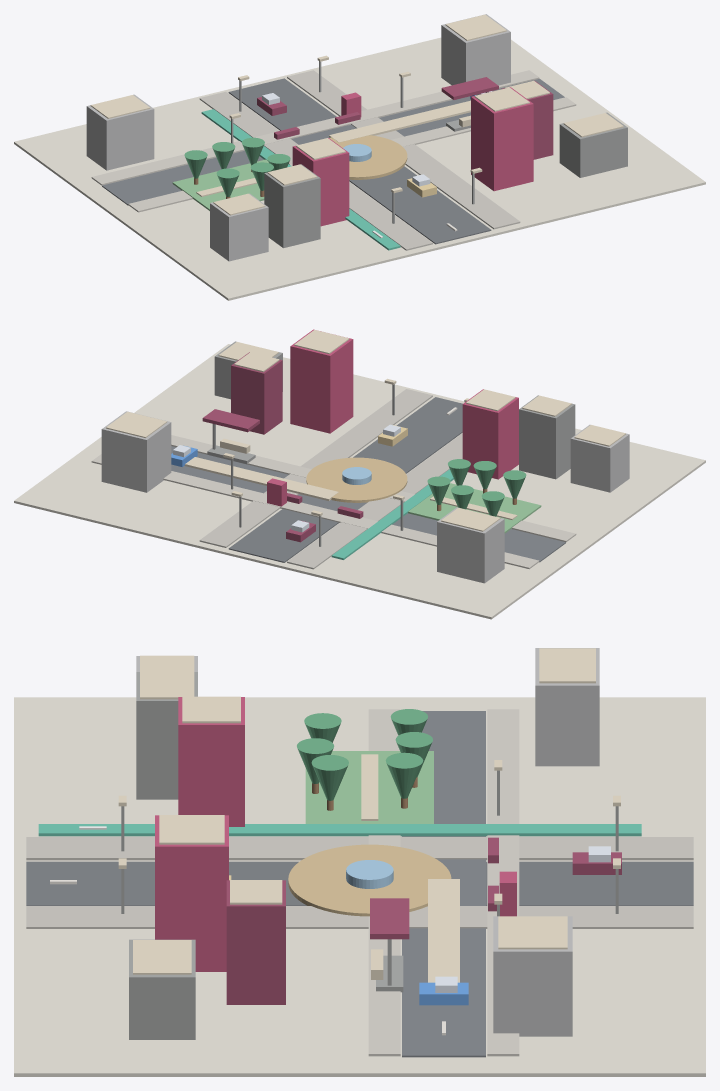
The model's file is maqueta-urbana.glb.
3 views of the same model, one above another, from view 1: azimuth 30°, elevation 25°; view 2: azimuth 150°, elevation 25°; view 3: azimuth 270°, elevation 25° (orthographic). The views are drawn at different scales.
Visible parts, largest first — view 1: Base_Terreno, Avenida_Principal, Edificio_Propuesto_01, Banqueta_Derecha, Calle_Transversal, Banqueta_Izquierda, Edificio_Existente_03, Edificio_Existente_02, Edificio_Existente_05, Banqueta_Transversal_Norte, Edificio_Existente_04, Edificio_Existente_01 (+15 smaller); view 2: Base_Terreno, Avenida_Principal, Edificio_Propuesto_01, Banqueta_Derecha, Edificio_Existente_05, Calle_Transversal, Edificio_Existente_03, Edificio_Propuesto_03, Banqueta_Izquierda, Edificio_Existente_02, Plaza_Central, Banqueta_Transversal_Norte (+18 smaller); view 3: Base_Terreno, Calle_Transversal, Avenida_Principal, Banqueta_Izquierda, Banqueta_Derecha, Edificio_Propuesto_01, Edificio_Existente_05, Plaza_Central, Ciclovia, Edificio_Propuesto_03, Banqueta_Transversal_Norte, Edificio_Propuesto_02 (+27 smaller).
Boxes of the visible parts, <box> form: Base_Terreno: <box>14,37,705,300</box>; Avenida_Principal: <box>228,78,491,244</box>; Edificio_Propuesto_01: <box>471,87,533,191</box>; Banqueta_Derecha: <box>287,70,520,229</box>; Calle_Transversal: <box>102,78,564,205</box>; Banqueta_Izquierda: <box>199,91,432,250</box>; Edificio_Existente_03: <box>86,94,154,170</box>; Edificio_Existente_02: <box>264,164,320,248</box>; Edificio_Existente_05: <box>441,14,510,85</box>; Banqueta_Transversal_Norte: <box>91,70,539,185</box>; Edificio_Existente_04: <box>559,112,627,177</box>; Edificio_Existente_01: <box>210,193,268,261</box>; Base_Terreno: <box>14,344,705,619</box>; Avenida_Principal: <box>228,397,462,562</box>; Edificio_Propuesto_01: <box>290,329,353,433</box>; Banqueta_Derecha: <box>199,389,432,547</box>; Edificio_Existente_05: <box>101,411,171,492</box>; Calle_Transversal: <box>171,446,565,562</box>; Edificio_Existente_03: <box>437,507,504,583</box>; Edificio_Propuesto_03: <box>462,389,518,479</box>; Banqueta_Izquierda: <box>287,433,462,569</box>; Edificio_Existente_02: <box>519,395,575,479</box>; Plaza_Central: <box>306,457,407,502</box>; Banqueta_Transversal_Norte: <box>91,454,539,569</box>; Base_Terreno: <box>14,697,705,1076</box>; Calle_Transversal: <box>402,711,485,1057</box>; Avenida_Principal: <box>26,861,693,905</box>; Banqueta_Izquierda: <box>26,837,693,860</box>; Banqueta_Derecha: <box>26,906,693,928</box>; Edificio_Propuesto_01: <box>155,815,228,971</box>; Edificio_Existente_05: <box>493,916,572,1036</box>; Plaza_Central: <box>288,844,451,916</box>; Ciclovia: <box>38,824,641,836</box>; Edificio_Propuesto_03: <box>178,697,244,826</box>; Banqueta_Transversal_Norte: <box>487,709,519,1056</box>; Edificio_Propuesto_02: <box>226,880,285,1004</box>.
Size of the model in its own units: 18 by 2.93 by 14.
